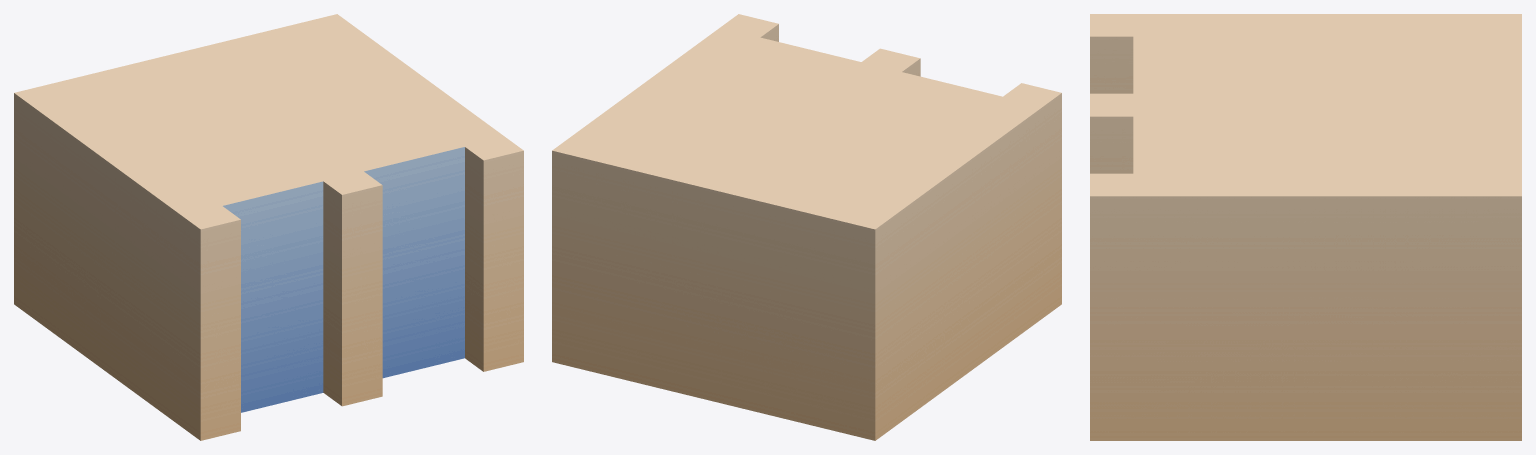
3 views of the same model, side by side, from view 1: azimuth 30°, elevation 25°; view 2: azimuth 150°, elevation 25°; view 3: azimuth 270°, elevation 25° (orthographic). The views are drawn at different scales.
Parts seen in each view (by area): view 1: building-windows-high-middle; view 2: building-windows-high-middle; view 3: building-windows-high-middle.
Part boxes in pixels (bbox=[...]): building-windows-high-middle: bbox=[14, 14, 523, 440]; building-windows-high-middle: bbox=[552, 14, 1061, 440]; building-windows-high-middle: bbox=[1090, 14, 1521, 440].
Bounding box in the file's own units: 1 × 0.625 × 1.
Materials: 1 (1 with a texture image).
